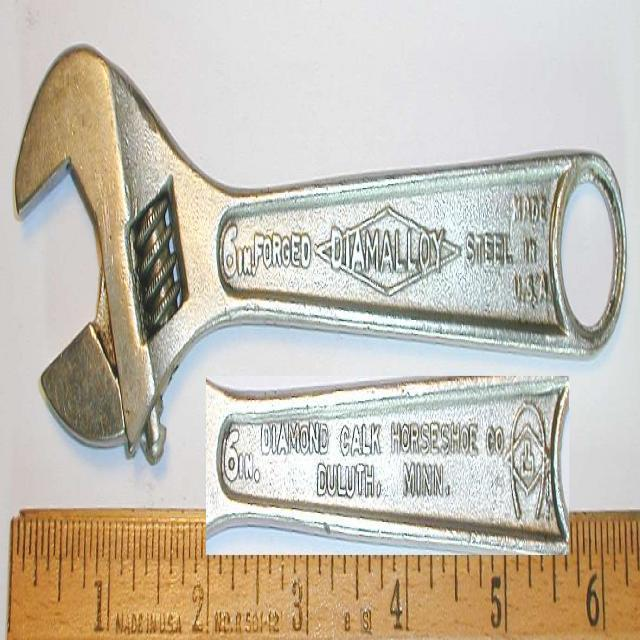wrench: (6, 34, 630, 460)
